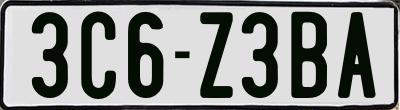3: (240, 11, 281, 98), (31, 9, 71, 96)
6: (127, 10, 163, 96)
A: (338, 11, 382, 101)
B: (289, 9, 331, 95)
C: (81, 11, 119, 101)
Z: (197, 9, 232, 96)
